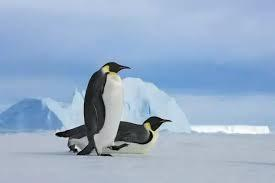emporer: (81, 57, 135, 166), (58, 113, 178, 156)
